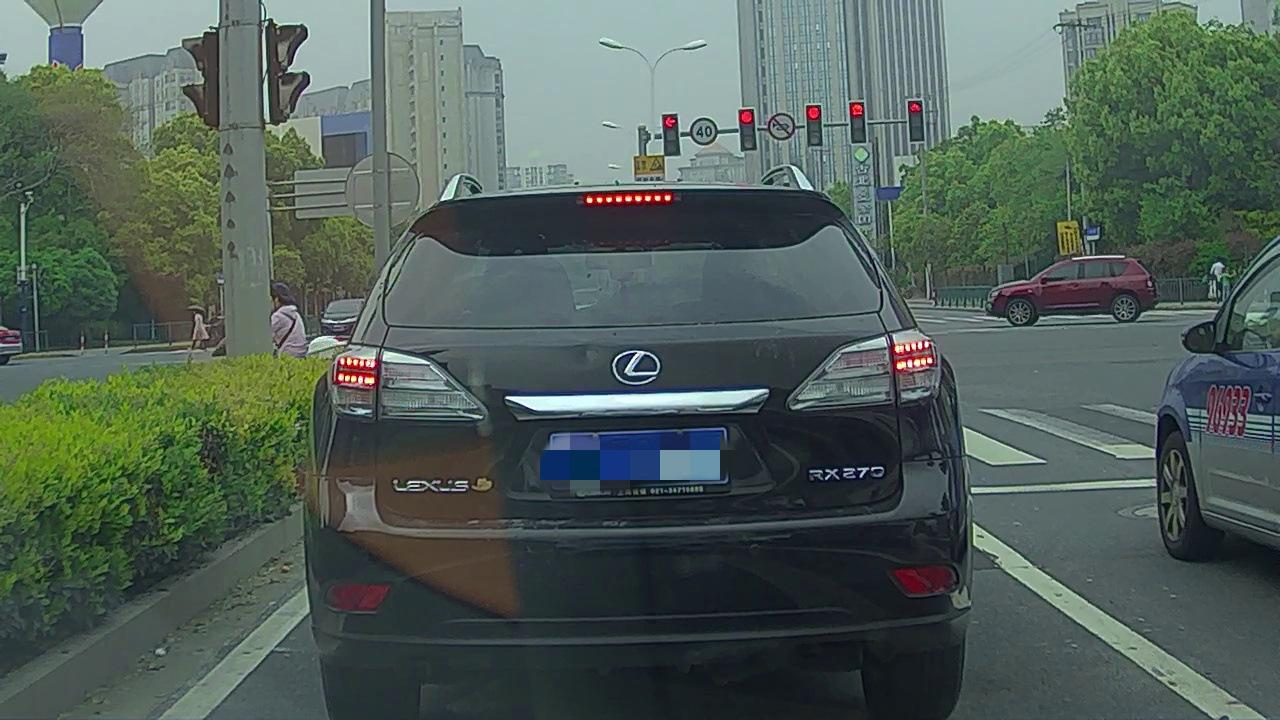traffic_light: (661, 112, 680, 156), (805, 103, 824, 146), (908, 100, 925, 143), (740, 108, 756, 151), (850, 102, 866, 145)
